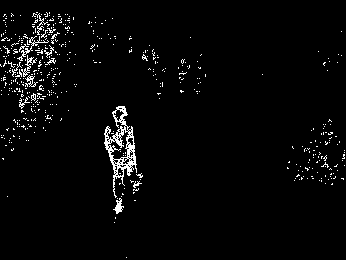person: (97, 103, 153, 217)
